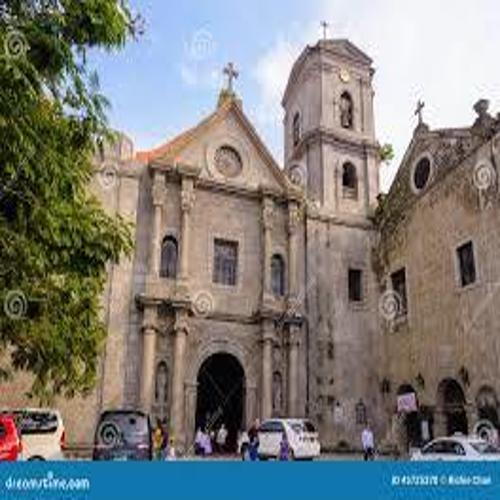San Agustin Church: (115, 9, 386, 459)
